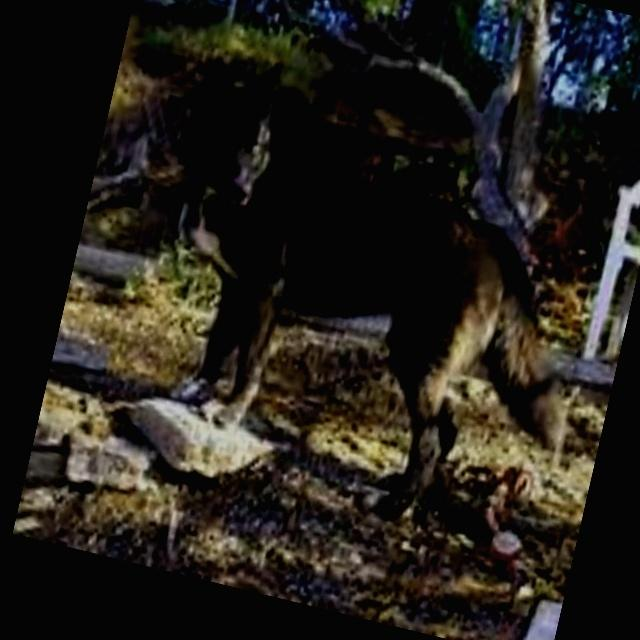dog: (71, 22, 617, 575)
